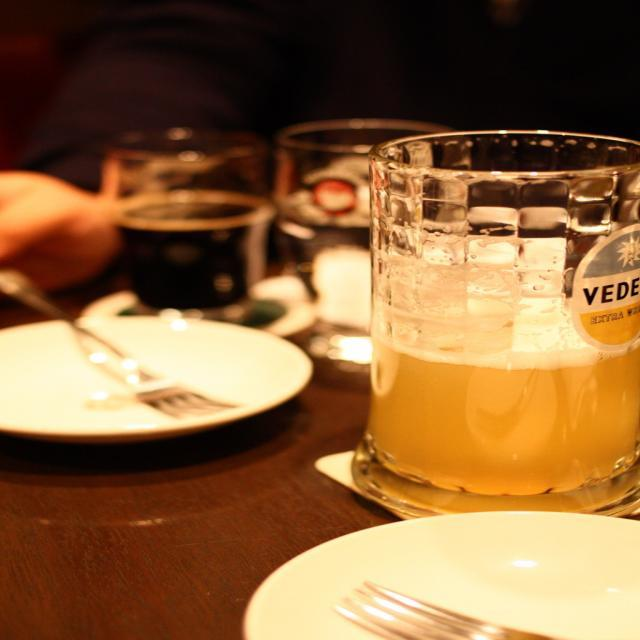ceramic plate: (2, 296, 312, 472), (223, 510, 640, 640)
